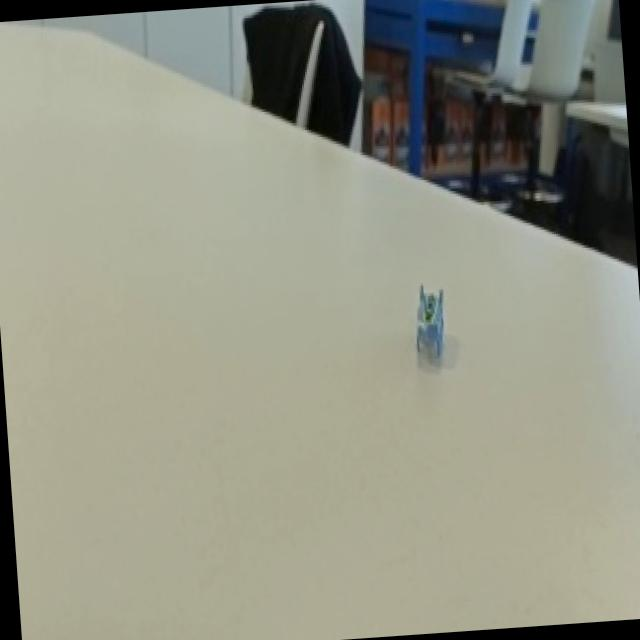3_NanoBug_Celeste: (376, 266, 476, 400)
